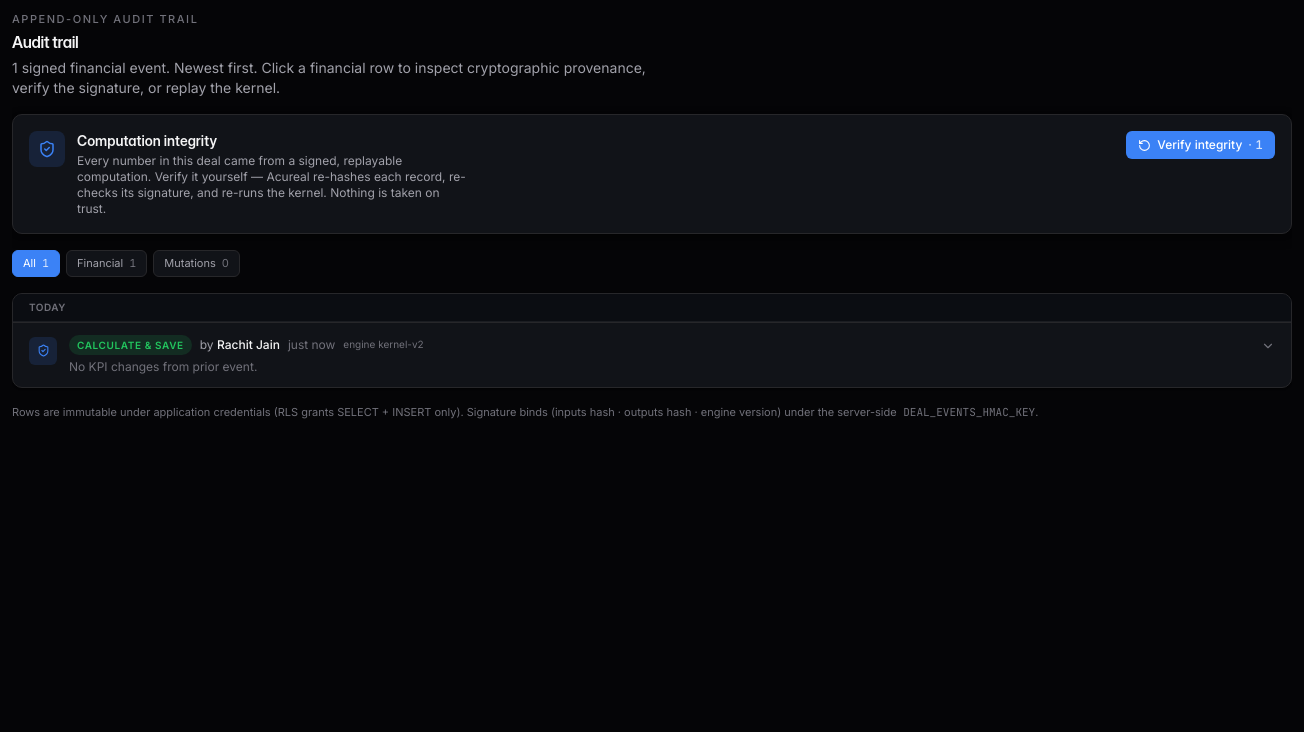
AuditTab — computation integrity panel › runs whole-deal verification and shows the verified verdict
Click the button "Verify integrity · 1". click: (1201,145)
box: [1126,131,1275,159]
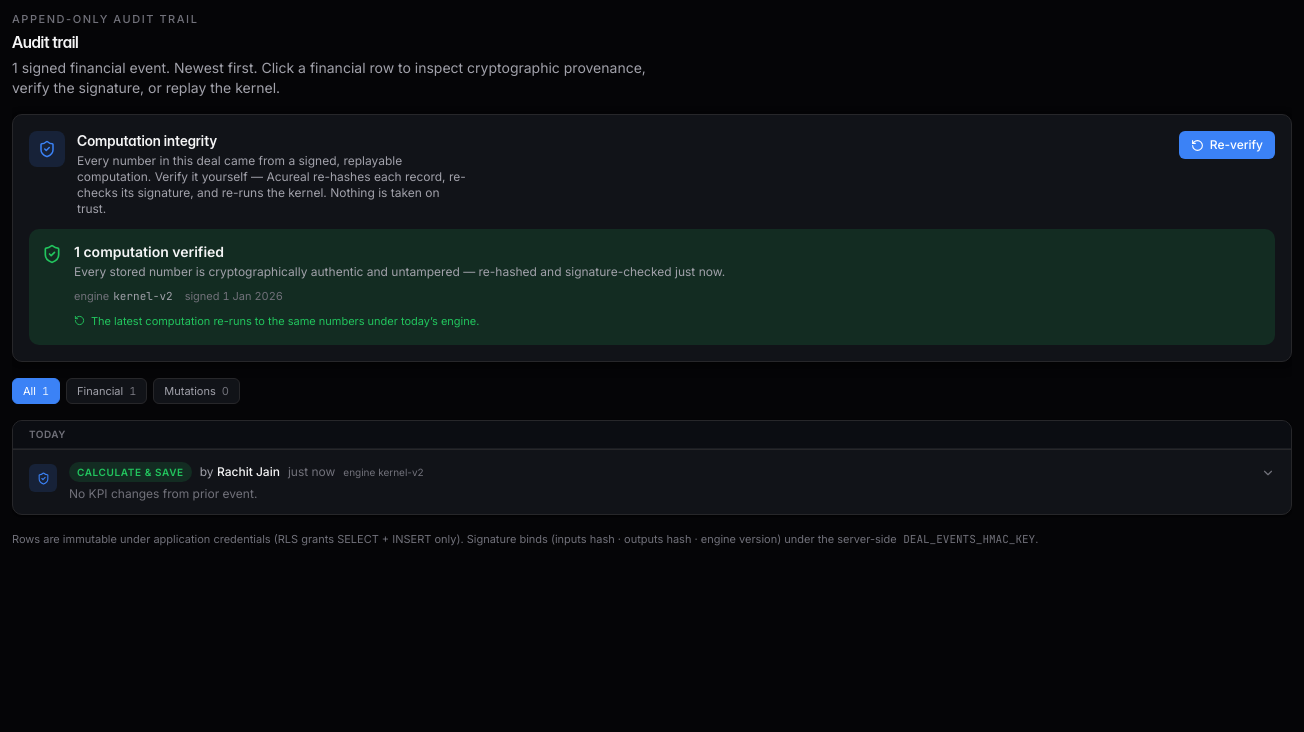
Result: the text "1 computation verified" is shown at [74,243,224,260]
Result: the text "cryptographically authentic" is shown at [74,264,725,279]
Result: the text "re-runs to the same numbers" is shown at [91,314,479,328]
